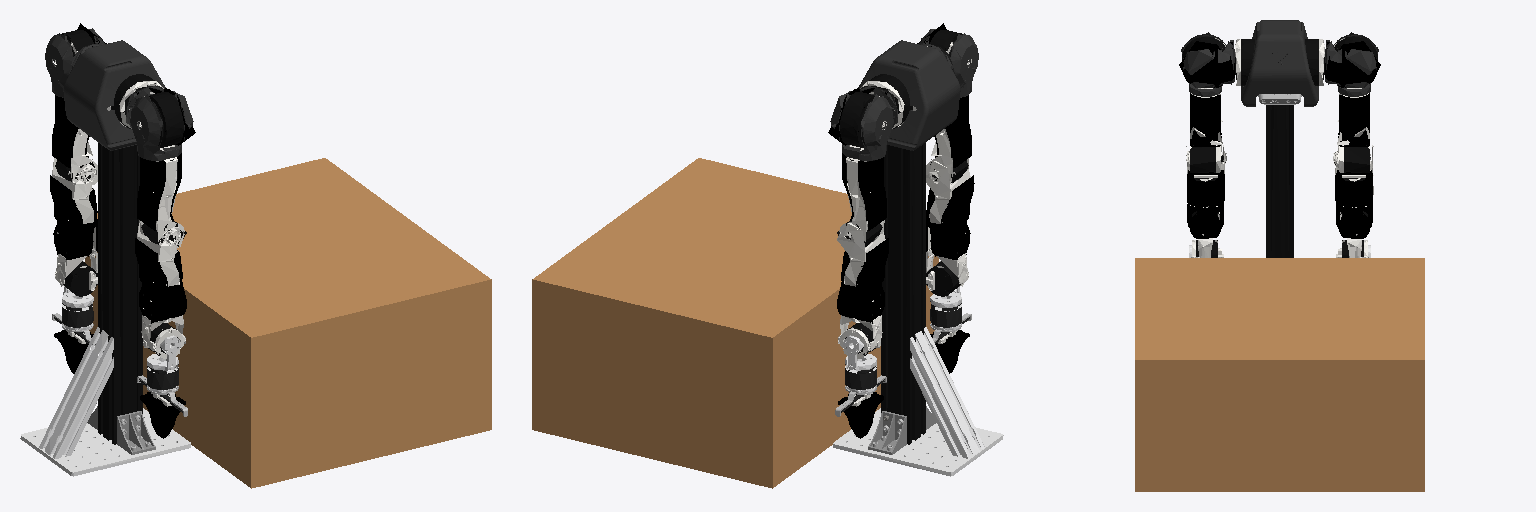
--- Render facts (derived) ---
3 views of the same robot in one strip: view 1: azimuth 30°, elevation 25°; view 2: azimuth 150°, elevation 25°; view 3: azimuth 270°, elevation 25° (orthographic).
Model openarm with 29 links and 28 joints (14 revolute, 4 prismatic, 10 fixed), rooted at base_link, posed every joint at zero.
Visible links, largest first — view 1: table, openarm_body_link0, openarm_right_link3, openarm_left_link3, openarm_right_link4, openarm_right_link1, openarm_left_link4, openarm_right_link5, openarm_left_link5, openarm_right_link2, openarm_right_link7, openarm_left_link2 (+6 smaller); view 2: table, openarm_body_link0, openarm_left_link3, openarm_left_link4, openarm_right_link4, openarm_right_link3, openarm_left_link1, openarm_left_link5, openarm_right_link5, openarm_left_link2, openarm_left_link7, openarm_right_link2 (+6 smaller); view 3: table, openarm_body_link0, openarm_right_link3, openarm_left_link3, openarm_left_link1, openarm_right_link1, openarm_left_link4, openarm_right_link4, openarm_right_link5, openarm_left_link5, openarm_left_link0, openarm_right_link0.
Link boxes in pixels (x1=…): table: x1=85, y1=158, x2=491, y2=488; openarm_body_link0: x1=20, y1=40, x2=190, y2=476; openarm_right_link3: x1=137, y1=153, x2=186, y2=247; openarm_left_link3: x1=52, y1=95, x2=97, y2=184; openarm_right_link4: x1=135, y1=223, x2=182, y2=287; openarm_right_link1: x1=126, y1=85, x2=195, y2=147; openarm_left_link4: x1=50, y1=158, x2=97, y2=225; openarm_right_link5: x1=139, y1=282, x2=186, y2=347; openarm_left_link5: x1=53, y1=219, x2=97, y2=286; openarm_right_link2: x1=130, y1=94, x2=181, y2=160; openarm_right_link7: x1=147, y1=335, x2=180, y2=392; openarm_left_link2: x1=45, y1=33, x2=74, y2=97; table: x1=532, y1=158, x2=938, y2=488; openarm_body_link0: x1=833, y1=40, x2=1003, y2=476; openarm_left_link3: x1=837, y1=153, x2=886, y2=246; openarm_left_link4: x1=837, y1=223, x2=888, y2=286; openarm_right_link4: x1=926, y1=161, x2=974, y2=224; openarm_right_link3: x1=926, y1=95, x2=971, y2=183; openarm_left_link1: x1=828, y1=85, x2=897, y2=147; openarm_left_link5: x1=837, y1=282, x2=884, y2=347; openarm_right_link5: x1=926, y1=219, x2=970, y2=286; openarm_left_link2: x1=842, y1=94, x2=893, y2=160; openarm_left_link7: x1=843, y1=335, x2=876, y2=392; openarm_right_link2: x1=949, y1=33, x2=978, y2=97; table: x1=1135, y1=258, x2=1424, y2=491; openarm_body_link0: x1=1241, y1=20, x2=1318, y2=257; openarm_right_link3: x1=1186, y1=93, x2=1226, y2=172; openarm_left_link3: x1=1333, y1=93, x2=1373, y2=172; openarm_left_link1: x1=1325, y1=37, x2=1380, y2=87; openarm_right_link1: x1=1179, y1=37, x2=1234, y2=87; openarm_left_link4: x1=1335, y1=145, x2=1373, y2=207; openarm_right_link4: x1=1186, y1=145, x2=1224, y2=207; openarm_right_link5: x1=1187, y1=204, x2=1223, y2=257; openarm_left_link5: x1=1336, y1=204, x2=1372, y2=257; openarm_left_link0: x1=1305, y1=39, x2=1324, y2=85; openarm_right_link0: x1=1235, y1=39, x2=1254, y2=85.
Bounding box of the posed robot: 0.7549 × 0.6 × 0.773 m (x, y, z).
24 mesh visuals loaded from 12 distinct referenced files (12 Collada DAE).

URDF robot description (openarm):
<?xml version="1.0" ?>
<!-- =================================================================================== -->
<!-- |    This document was autogenerated by xacro from ./urdf/robot/v10-D435.urdf.xacro | -->
<!-- |    EDITING THIS FILE BY HAND IS NOT RECOMMENDED                                 | -->
<!-- =================================================================================== -->
<robot name="openarm">
  <!-- 包含RealSense D435i的URDF模型（从realsense2_description包中） -->
  <!-- <xacro:include filename="$(find realsense2_description)/urdf/test_d435i_camera.urdf.xacro"/> -->
  <!-- Is the robot being simulated in gazebo? -->
  <!-- <xacro:arg name="gazebo" default="false" /> -->
  <link name="base_link"/>
  <joint name="openarm_body_world_joint" type="fixed">
    <parent link="base_link"/>
    <child link="openarm_body_link0"/>
    <origin rpy="0 0 0" xyz="0 0 0"/>
  </joint>
  <link name="openarm_body_link0">
    <visual name="openarm_body_link0_visual">
      <origin rpy="0.0 0.0 0.0" xyz="0.0 0.0 0.0"/>
      <geometry>
        <mesh filename="package://openarm_description/meshes/body/v10/visual/body_link0.dae" scale="0.001 0.001 0.001"/>
      </geometry>
    </visual>
    <collision name="openarm_body_link0_collision">
      <origin rpy="0.0 0.0 0.0" xyz="0.0 0.0 0.0"/>
      <geometry>
        <mesh filename="package://openarm_description/meshes/body/v10/collision/body_link0_symp.stl" scale="0.001 0.001 0.001"/>
        <!-- <mesh filename="package://openarm_description/meshes/arm/${arm_type}/collision/${name}.stl" scale="0.001 0.001 0.001" /> -->
      </geometry>
    </collision>
    <inertial>
      <origin rpy="0.0 0.0 0.0" xyz="0.0 0.0 0.0"/>
      <mass value="13.89"/>
      <inertia ixx="1.653" ixy="0.0" ixz="0.0" iyy="1.653" iyz="0.0" izz="0.051"/>
    </inertial>
  </link>
  <joint name="openarm_left_openarm_body_link0_joint" type="fixed">
    <parent link="openarm_body_link0"/>
    <child link="openarm_left_link0"/>
    <origin rpy="-1.5708 0 0" xyz="0.0 0.031 0.698"/>
  </joint>
  <link name="openarm_left_link0">
    <visual name="openarm_left_link0_visual">
      <origin rpy="0.0 0.0 0.0" xyz="0.0 0.0 0.0"/>
      <geometry>
        <mesh filename="package://openarm_description/meshes/arm/v10/visual/link0.dae" scale="0.001 -0.001 0.001"/>
      </geometry>
    </visual>
    <collision name="openarm_left_link0_collision">
      <origin rpy="0.0 0.0 0.0" xyz="0.0 0.0 0.0"/>
      <geometry>
        <mesh filename="package://openarm_description/meshes/arm/v10/collision/link0_symp.stl" scale="0.001 -0.001 0.001"/>
        <!-- <mesh filename="package://openarm_description/meshes/arm/${arm_type}/collision/${name}.stl" scale="0.001 0.001 0.001" /> -->
      </geometry>
    </collision>
    <inertial>
      <origin rpy="0.0 0.0 0.0" xyz="-0.0009483362816297526 -0.0001580207020448382 0.03076860287587199"/>
      <mass value="1.1432284943239561"/>
      <inertia ixx="0.001128" ixy="-4e-06" ixz="-3.3e-05" iyy="0.000962" iyz="-7e-06" izz="0.00147"/>
    </inertial>
  </link>
  <link name="openarm_left_link1">
    <visual name="openarm_left_link1_visual">
      <origin rpy="0.0 0.0 0.0" xyz="-0.0 0.0 -0.0625"/>
      <geometry>
        <mesh filename="package://openarm_description/meshes/arm/v10/visual/link1.dae" scale="0.001 -0.001 0.001"/>
      </geometry>
    </visual>
    <collision name="openarm_left_link1_collision">
      <origin rpy="0.0 0.0 0.0" xyz="-0.0 0.0 -0.0625"/>
      <geometry>
        <mesh filename="package://openarm_description/meshes/arm/v10/collision/link1_symp.stl" scale="0.001 -0.001 0.001"/>
        <!-- <mesh filename="package://openarm_description/meshes/arm/${arm_type}/collision/${name}.stl" scale="0.001 0.001 0.001" /> -->
      </geometry>
    </collision>
    <inertial>
      <origin rpy="0.0 0.0 0.0" xyz="0.0011467657911800769 -3.319987657026362e-05 0.05395284380736254"/>
      <mass value="1.1416684646202298"/>
      <inertia ixx="0.001567" ixy="-1e-06" ixz="-2.9e-05" iyy="0.001273" iyz="1e-06" izz="0.001016"/>
    </inertial>
  </link>
  <joint name="openarm_left_joint1" type="revolute">
    <origin rpy="0 0 0" xyz="0.0 0.0 0.0625"/>
    <parent link="openarm_left_link0"/>
    <child link="openarm_left_link1"/>
    <axis xyz="0 0 1"/>
    <limit effort="40" lower="-3.490659" upper="1.3962629999999998" velocity="16.754666"/>
  </joint>
  <link name="openarm_left_link2">
    <visual name="openarm_left_link2_visual">
      <origin rpy="0.0 0.0 0.0" xyz="0.0301 0.0 -0.1225"/>
      <geometry>
        <mesh filename="package://openarm_description/meshes/arm/v10/visual/link2.dae" scale="0.001 -0.001 0.001"/>
      </geometry>
    </visual>
    <collision name="openarm_left_link2_collision">
      <origin rpy="0.0 0.0 0.0" xyz="0.0301 0.0 -0.1225"/>
      <geometry>
        <mesh filename="package://openarm_description/meshes/arm/v10/collision/link2_symp.stl" scale="0.001 -0.001 0.001"/>
        <!-- <mesh filename="package://openarm_description/meshes/arm/${arm_type}/collision/${name}.stl" scale="0.001 0.001 0.001" /> -->
      </geometry>
    </collision>
    <inertial>
      <origin rpy="0.0 0.0 0.0" xyz="0.00839629182351943 2.0145102027597523e-08 0.03256649300522363"/>
      <mass value="0.2775092746011571"/>
      <inertia ixx="0.000359" ixy="1e-06" ixz="-0.000109" iyy="0.000376" iyz="1e-06" izz="0.000232"/>
    </inertial>
  </link>
  <joint name="openarm_left_joint2" type="revolute">
    <origin rpy="-1.57079632679 0 0" xyz="-0.0301 0.0 0.06"/>
    <parent link="openarm_left_link1"/>
    <child link="openarm_left_link2"/>
    <axis xyz="-1 0 0"/>
    <limit effort="40" lower="-3.3161253267948965" upper="0.17453267320510335" velocity="16.754666"/>
  </joint>
  <link name="openarm_left_link3">
    <visual name="openarm_left_link3_visual">
      <origin rpy="0.0 0.0 0.0" xyz="-0.0 -0.0 -0.18875"/>
      <geometry>
        <mesh filename="package://openarm_description/meshes/arm/v10/visual/link3.dae" scale="0.001 -0.001 0.001"/>
      </geometry>
    </visual>
    <collision name="openarm_left_link3_collision">
      <origin rpy="0.0 0.0 0.0" xyz="-0.0 -0.0 -0.18875"/>
      <geometry>
        <mesh filename="package://openarm_description/meshes/arm/v10/collision/link3_symp.stl" scale="0.001 -0.001 0.001"/>
        <!-- <mesh filename="package://openarm_description/meshes/arm/${arm_type}/collision/${name}.stl" scale="0.001 0.001 0.001" /> -->
      </geometry>
    </collision>
    <inertial>
      <origin rpy="0.0 0.0 0.0" xyz="-0.002104752099628911 -0.0005549085042607548 0.09047470545721961"/>
      <mass value="1.073863338202347"/>
      <inertia ixx="0.004372" ixy="1e-06" ixz="1.1e-05" iyy="0.004319" iyz="-3.6e-05" izz="0.000661"/>
    </inertial>
  </link>
  <joint name="openarm_left_joint3" type="revolute">
    <origin rpy="0 0 0" xyz="0.0301 0.0 0.06625"/>
    <parent link="openarm_left_link2"/>
    <child link="openarm_left_link3"/>
    <axis xyz="0 0 1"/>
    <limit effort="27" lower="-1.570796" upper="1.570796" velocity="5.445426"/>
  </joint>
  <link name="openarm_left_link4">
    <visual name="openarm_left_link4_visual">
      <origin rpy="0.0 0.0 0.0" xyz="0.0 -0.0315 -0.3425"/>
      <geometry>
        <mesh filename="package://openarm_description/meshes/arm/v10/visual/link4.dae" scale="0.001 0.001 0.001"/>
      </geometry>
    </visual>
    <collision name="openarm_left_link4_collision">
      <origin rpy="0.0 0.0 0.0" xyz="0.0 -0.0315 -0.3425"/>
      <geometry>
        <mesh filename="package://openarm_description/meshes/arm/v10/collision/link4_symp.stl" scale="0.001 0.001 0.001"/>
        <!-- <mesh filename="package://openarm_description/meshes/arm/${arm_type}/collision/${name}.stl" scale="0.001 0.001 0.001" /> -->
      </geometry>
    </collision>
    <inertial>
      <origin rpy="0.0 0.0 0.0" xyz="-0.0029006831074562967 -0.03030575826634669 0.06339637422196209"/>
      <mass value="0.6348534566833373"/>
      <inertia ixx="0.000623" ixy="-1e-06" ixz="-1.9e-05" iyy="0.000511" iyz="3.8e-05" izz="0.000334"/>
    </inertial>
  </link>
  <joint name="openarm_left_joint4" type="revolute">
    <origin rpy="0 0 0" xyz="-0.0 0.0315 0.15375"/>
    <parent link="openarm_left_link3"/>
    <child link="openarm_left_link4"/>
    <axis xyz="0 1 0"/>
    <limit effort="27" lower="0.0" upper="2.443461" velocity="5.445426"/>
  </joint>
  <link name="openarm_left_link5">
    <visual name="openarm_left_link5_visual">
      <origin rpy="0.0 0.0 0.0" xyz="-0.0 -0.0 -0.438"/>
      <geometry>
        <mesh filename="package://openarm_description/meshes/arm/v10/visual/link5.dae" scale="0.001 -0.001 0.001"/>
      </geometry>
    </visual>
    <collision name="openarm_left_link5_collision">
      <origin rpy="0.0 0.0 0.0" xyz="-0.0 -0.0 -0.438"/>
      <geometry>
        <mesh filename="package://openarm_description/meshes/arm/v10/collision/link5_symp.stl" scale="0.001 -0.001 0.001"/>
        <!-- <mesh filename="package://openarm_description/meshes/arm/${arm_type}/collision/${name}.stl" scale="0.001 0.001 0.001" /> -->
      </geometry>
    </collision>
    <inertial>
      <origin rpy="0.0 0.0 0.0" xyz="-0.003049665024221911 -0.0008866902457326625 0.043079803024980934"/>
      <mass value="0.6156588026168502"/>
      <inertia ixx="0.000423" ixy="-8e-06" ixz="6e-06" iyy="0.000445" iyz="-6e-06" izz="0.000324"/>
    </inertial>
  </link>
  <joint name="openarm_left_joint5" type="revolute">
    <origin rpy="0 0 0" xyz="0.0 -0.0315 0.0955"/>
    <parent link="openarm_left_link4"/>
    <child link="openarm_left_link5"/>
    <axis xyz="0 0 1"/>
    <limit effort="7" lower="-1.570796" upper="1.570796" velocity="20.943946"/>
  </joint>
  <link name="openarm_left_link6">
    <visual name="openarm_left_link6_visual">
      <origin rpy="0.0 0.0 0.0" xyz="-0.0375 -0.0 -0.5585"/>
      <geometry>
        <mesh filename="package://openarm_description/meshes/arm/v10/visual/link6.dae" scale="0.001 -0.001 0.001"/>
      </geometry>
    </visual>
    <collision name="openarm_left_link6_collision">
      <origin rpy="0.0 0.0 0.0" xyz="-0.0375 -0.0 -0.5585"/>
      <geometry>
        <mesh filename="package://openarm_description/meshes/arm/v10/collision/link6_symp.stl" scale="0.001 -0.001 0.001"/>
        <!-- <mesh filename="package://openarm_description/meshes/arm/${arm_type}/collision/${name}.stl" scale="0.001 0.001 0.001" /> -->
      </geometry>
    </collision>
    <inertial>
      <origin rpy="0.0 0.0 0.0" xyz="-0.037136587005447405 -0.00033230528343419053 -9.498374522309838e-05"/>
      <mass value="0.475202773187987"/>
      <inertia ixx="0.000143" ixy="1e-06" ixz="1e-06" iyy="0.000157" iyz="1e-06" izz="0.000159"/>
    </inertial>
  </link>
  <joint name="openarm_left_joint6" type="revolute">
    <origin rpy="0 0 0" xyz="0.0375 0.0 0.1205"/>
    <parent link="openarm_left_link5"/>
    <child link="openarm_left_link6"/>
    <axis xyz="1 0 0"/>
    <limit effort="7" lower="-0.785398" upper="0.785398" velocity="20.943946"/>
  </joint>
  <link name="openarm_left_link7">
    <visual name="openarm_left_link7_visual">
      <origin rpy="0.0 0.0 0.0" xyz="0.0 -0.0 -0.5585"/>
      <geometry>
        <mesh filename="package://openarm_description/meshes/arm/v10/visual/link7.dae" scale="0.001 -0.001 0.001"/>
      </geometry>
    </visual>
    <collision name="openarm_left_link7_collision">
      <origin rpy="0.0 0.0 0.0" xyz="0.0 -0.0 -0.5585"/>
      <geometry>
        <mesh filename="package://openarm_description/meshes/arm/v10/collision/link7_symp.stl" scale="0.001 -0.001 0.001"/>
        <!-- <mesh filename="package://openarm_description/meshes/arm/${arm_type}/collision/${name}.stl" scale="0.001 0.001 0.001" /> -->
      </geometry>
    </collision>
    <inertial>
      <origin rpy="0.0 0.0 0.0" xyz="6.875510271106056e-05 -0.01266175250761268 0.06951945409987448"/>
      <mass value="0.4659771327380578"/>
      <inertia ixx="0.000639" ixy="1e-06" ixz="1e-06" iyy="0.000497" iyz="8.9e-05" izz="0.000342"/>
    </inertial>
  </link>
  <joint name="openarm_left_joint7" type="revolute">
    <origin rpy="0 0 0" xyz="-0.0375 0.0 0.0"/>
    <parent link="openarm_left_link6"/>
    <child link="openarm_left_link7"/>
    <axis xyz="0 -1 0"/>
    <limit effort="7" lower="-1.570796" upper="1.570796" velocity="20.943946"/>
  </joint>
  <!-- <link name="${prefix}link8"/>

    <joint name="${prefix}joint8" type="fixed">
      <xacro:openarm-kinematics name="joint8" config="${kinematics}" />
      <parent link="${prefix}link7" />
      <child link="${prefix}link8" />
    </joint> -->
  <joint name="openarm_right_openarm_body_link0_joint" type="fixed">
    <parent link="openarm_body_link0"/>
    <child link="openarm_right_link0"/>
    <origin rpy="1.5708 0 0" xyz="0.0 -0.031 0.698"/>
  </joint>
  <link name="openarm_right_link0">
    <visual name="openarm_right_link0_visual">
      <origin rpy="0.0 0.0 0.0" xyz="0.0 0.0 0.0"/>
      <geometry>
        <mesh filename="package://openarm_description/meshes/arm/v10/visual/link0.dae" scale="0.001 0.001 0.001"/>
      </geometry>
    </visual>
    <collision name="openarm_right_link0_collision">
      <origin rpy="0.0 0.0 0.0" xyz="0.0 0.0 0.0"/>
      <geometry>
        <mesh filename="package://openarm_description/meshes/arm/v10/collision/link0_symp.stl" scale="0.001 0.001 0.001"/>
        <!-- <mesh filename="package://openarm_description/meshes/arm/${arm_type}/collision/${name}.stl" scale="0.001 0.001 0.001" /> -->
      </geometry>
    </collision>
    <inertial>
      <origin rpy="0.0 0.0 0.0" xyz="-0.0009483362816297526 0.0001580207020448382 0.03076860287587199"/>
      <mass value="1.1432284943239561"/>
      <inertia ixx="0.001128" ixy="-4e-06" ixz="-3.3e-05" iyy="0.000962" iyz="-7e-06" izz="0.00147"/>
    </inertial>
  </link>
  <link name="openarm_right_link1">
    <visual name="openarm_right_link1_visual">
      <origin rpy="0.0 0.0 0.0" xyz="-0.0 0.0 -0.0625"/>
      <geometry>
        <mesh filename="package://openarm_description/meshes/arm/v10/visual/link1.dae" scale="0.001 0.001 0.001"/>
      </geometry>
    </visual>
    <collision name="openarm_right_link1_collision">
      <origin rpy="0.0 0.0 0.0" xyz="-0.0 0.0 -0.0625"/>
      <geometry>
        <mesh filename="package://openarm_description/meshes/arm/v10/collision/link1_symp.stl" scale="0.001 0.001 0.001"/>
        <!-- <mesh filename="package://openarm_description/meshes/arm/${arm_type}/collision/${name}.stl" scale="0.001 0.001 0.001" /> -->
      </geometry>
    </collision>
    <inertial>
      <origin rpy="0.0 0.0 0.0" xyz="0.0011467657911800769 3.319987657026362e-05 0.05395284380736254"/>
      <mass value="1.1416684646202298"/>
      <inertia ixx="0.001567" ixy="-1e-06" ixz="-2.9e-05" iyy="0.001273" iyz="1e-06" izz="0.001016"/>
    </inertial>
  </link>
  <joint name="openarm_right_joint1" type="revolute">
    <origin rpy="0 0 0" xyz="0.0 0.0 0.0625"/>
    <parent link="openarm_right_link0"/>
    <child link="openarm_right_link1"/>
    <axis xyz="0 0 1"/>
    <limit effort="40" lower="-1.396263" upper="3.490659" velocity="16.754666"/>
  </joint>
  <link name="openarm_right_link2">
    <visual name="openarm_right_link2_visual">
      <origin rpy="0.0 0.0 0.0" xyz="0.0301 0.0 -0.1225"/>
      <geometry>
        <mesh filename="package://openarm_description/meshes/arm/v10/visual/link2.dae" scale="0.001 0.001 0.001"/>
      </geometry>
    </visual>
    <collision name="openarm_right_link2_collision">
      <origin rpy="0.0 0.0 0.0" xyz="0.0301 0.0 -0.1225"/>
      <geometry>
        <mesh filename="package://openarm_description/meshes/arm/v10/collision/link2_symp.stl" scale="0.001 0.001 0.001"/>
        <!-- <mesh filename="package://openarm_description/meshes/arm/${arm_type}/collision/${name}.stl" scale="0.001 0.001 0.001" /> -->
      </geometry>
    </collision>
    <inertial>
      <origin rpy="0.0 0.0 0.0" xyz="0.00839629182351943 -2.0145102027597523e-08 0.03256649300522363"/>
      <mass value="0.2775092746011571"/>
      <inertia ixx="0.000359" ixy="1e-06" ixz="-0.000109" iyy="0.000376" iyz="1e-06" izz="0.000232"/>
    </inertial>
  </link>
  <joint name="openarm_right_joint2" type="revolute">
    <origin rpy="1.57079632679 0 0" xyz="-0.0301 0.0 0.06"/>
    <parent link="openarm_right_link1"/>
    <child link="openarm_right_link2"/>
    <axis xyz="-1 0 0"/>
    <limit effort="40" lower="-0.17453267320510335" upper="3.3161253267948965" velocity="16.754666"/>
  </joint>
  <link name="openarm_right_link3">
    <visual name="openarm_right_link3_visual">
      <origin rpy="0.0 0.0 0.0" xyz="-0.0 -0.0 -0.18875"/>
      <geometry>
        <mesh filename="package://openarm_description/meshes/arm/v10/visual/link3.dae" scale="0.001 0.001 0.001"/>
      </geometry>
    </visual>
    <collision name="openarm_right_link3_collision">
      <origin rpy="0.0 0.0 0.0" xyz="-0.0 -0.0 -0.18875"/>
      <geometry>
        <mesh filename="package://openarm_description/meshes/arm/v10/collision/link3_symp.stl" scale="0.001 0.001 0.001"/>
        <!-- <mesh filename="package://openarm_description/meshes/arm/${arm_type}/collision/${name}.stl" scale="0.001 0.001 0.001" /> -->
      </geometry>
    </collision>
    <inertial>
      <origin rpy="0.0 0.0 0.0" xyz="-0.002104752099628911 0.0005549085042607548 0.09047470545721961"/>
      <mass value="1.073863338202347"/>
      <inertia ixx="0.004372" ixy="1e-06" ixz="1.1e-05" iyy="0.004319" iyz="-3.6e-05" izz="0.000661"/>
    </inertial>
  </link>
  <joint name="openarm_right_joint3" type="revolute">
    <origin rpy="0 0 0" xyz="0.0301 0.0 0.06625"/>
    <parent link="openarm_right_link2"/>
    <child link="openarm_right_link3"/>
    <axis xyz="0 0 1"/>
    <limit effort="27" lower="-1.570796" upper="1.570796" velocity="5.445426"/>
  </joint>
  <link name="openarm_right_link4">
    <visual name="openarm_right_link4_visual">
      <origin rpy="0.0 0.0 0.0" xyz="0.0 -0.0315 -0.3425"/>
      <geometry>
        <mesh filename="package://openarm_description/meshes/arm/v10/visual/link4.dae" scale="0.001 0.001 0.001"/>
      </geometry>
    </visual>
    <collision name="openarm_right_link4_collision">
      <origin rpy="0.0 0.0 0.0" xyz="0.0 -0.0315 -0.3425"/>
      <geometry>
        <mesh filename="package://openarm_description/meshes/arm/v10/collision/link4_symp.stl" scale="0.001 0.001 0.001"/>
        <!-- <mesh filename="package://openarm_description/meshes/arm/${arm_type}/collision/${name}.stl" scale="0.001 0.001 0.001" /> -->
      </geometry>
    </collision>
    <inertial>
      <origin rpy="0.0 0.0 0.0" xyz="-0.0029006831074562967 -0.03030575826634669 0.06339637422196209"/>
      <mass value="0.6348534566833373"/>
      <inertia ixx="0.000623" ixy="-1e-06" ixz="-1.9e-05" iyy="0.000511" iyz="3.8e-05" izz="0.000334"/>
    </inertial>
  </link>
  <joint name="openarm_right_joint4" type="revolute">
    <origin rpy="0 0 0" xyz="-0.0 0.0315 0.15375"/>
    <parent link="openarm_right_link3"/>
    <child link="openarm_right_link4"/>
    <axis xyz="0 1 0"/>
    <limit effort="27" lower="0.0" upper="2.443461" velocity="5.445426"/>
  </joint>
  <link name="openarm_right_link5">
    <visual name="openarm_right_link5_visual">
      <origin rpy="0.0 0.0 0.0" xyz="-0.0 -0.0 -0.438"/>
      <geometry>
        <mesh filename="package://openarm_description/meshes/arm/v10/visual/link5.dae" scale="0.001 0.001 0.001"/>
      </geometry>
    </visual>
    <collision name="openarm_right_link5_collision">
      <origin rpy="0.0 0.0 0.0" xyz="-0.0 -0.0 -0.438"/>
      <geometry>
        <mesh filename="package://openarm_description/meshes/arm/v10/collision/link5_symp.stl" scale="0.001 0.001 0.001"/>
        <!-- <mesh filename="package://openarm_description/meshes/arm/${arm_type}/collision/${name}.stl" scale="0.001 0.001 0.001" /> -->
      </geometry>
    </collision>
    <inertial>
      <origin rpy="0.0 0.0 0.0" xyz="-0.003049665024221911 0.0008866902457326625 0.043079803024980934"/>
      <mass value="0.6156588026168502"/>
      <inertia ixx="0.000423" ixy="-8e-06" ixz="6e-06" iyy="0.000445" iyz="-6e-06" izz="0.000324"/>
    </inertial>
  </link>
  <joint name="openarm_right_joint5" type="revolute">
    <origin rpy="0 0 0" xyz="0.0 -0.0315 0.0955"/>
    <parent link="openarm_right_link4"/>
    <child link="openarm_right_link5"/>
    <axis xyz="0 0 1"/>
    <limit effort="7" lower="-1.570796" upper="1.570796" velocity="20.943946"/>
  </joint>
  <link name="openarm_right_link6">
    <visual name="openarm_right_link6_visual">
      <origin rpy="0.0 0.0 0.0" xyz="-0.0375 -0.0 -0.5585"/>
      <geometry>
        <mesh filename="package://openarm_description/meshes/arm/v10/visual/link6.dae" scale="0.001 0.001 0.001"/>
      </geometry>
    </visual>
    <collision name="openarm_right_link6_collision">
      <origin rpy="0.0 0.0 0.0" xyz="-0.0375 -0.0 -0.5585"/>
      <geometry>
        <mesh filename="package://openarm_description/meshes/arm/v10/collision/link6_symp.stl" scale="0.001 0.001 0.001"/>
        <!-- <mesh filename="package://openarm_description/meshes/arm/${arm_type}/collision/${name}.stl" scale="0.001 0.001 0.001" /> -->
      </geometry>
    </collision>
    <inertial>
      <origin rpy="0.0 0.0 0.0" xyz="-0.037136587005447405 0.00033230528343419053 -9.498374522309838e-05"/>
      <mass value="0.475202773187987"/>
      <inertia ixx="0.000143" ixy="1e-06" ixz="1e-06" iyy="0.000157" iyz="1e-06" izz="0.000159"/>
    </inertial>
  </link>
  <joint name="openarm_right_joint6" type="revolute">
    <origin rpy="0 0 0" xyz="0.0375 0.0 0.1205"/>
    <parent link="openarm_right_link5"/>
    <child link="openarm_right_link6"/>
    <axis xyz="1 0 0"/>
    <limit effort="7" lower="-0.785398" upper="0.785398" velocity="20.943946"/>
  </joint>
  <link name="openarm_right_link7">
    <visual name="openarm_right_link7_visual">
      <origin rpy="0.0 0.0 0.0" xyz="0.0 -0.0 -0.5585"/>
      <geometry>
        <mesh filename="package://openarm_description/meshes/arm/v10/visual/link7.dae" scale="0.001 0.001 0.001"/>
      </geometry>
    </visual>
    <collision name="openarm_right_link7_collision">
      <origin rpy="0.0 0.0 0.0" xyz="0.0 -0.0 -0.5585"/>
      <geometry>
        <mesh filename="package://openarm_description/meshes/arm/v10/collision/link7_symp.stl" scale="0.001 0.001 0.001"/>
        <!-- <mesh filename="package://openarm_description/meshes/arm/${arm_type}/collision/${name}.stl" scale="0.001 0.001 0.001" /> -->
      </geometry>
    </collision>
    <inertial>
      <origin rpy="0.0 0.0 0.0" xyz="6.875510271106056e-05 0.01266175250761268 0.06951945409987448"/>
      <mass value="0.4659771327380578"/>
      <inertia ixx="0.000639" ixy="1e-06" ixz="1e-06" iyy="0.000497" iyz="8.9e-05" izz="0.000342"/>
    </inertial>
  </link>
  <joint name="openarm_right_joint7" type="revolute">
    <origin rpy="0 0 0" xyz="-0.0375 0.0 0.0"/>
    <parent link="openarm_right_link6"/>
    <child link="openarm_right_link7"/>
    <axis xyz="0 1 0"/>
    <limit effort="7" lower="-1.570796" upper="1.570796" velocity="20.943946"/>
  </joint>
  <!-- <link name="${prefix}link8"/>

    <joint name="${prefix}joint8" type="fixed">
      <xacro:openarm-kinematics name="joint8" config="${kinematics}" />
      <parent link="${prefix}link7" />
      <child link="${prefix}link8" />
    </joint> -->
  <link name="openarm_left_hand">
    <visual name="openarm_left_hand_visual">
      <origin rpy="0.0 0.0 0.0" xyz="0.0 0.0 -0.6585"/>
      <geometry>
        <mesh filename="package://openarm_description/meshes/ee/openarm_hand/visual/hand.dae" scale="0.001 0.001 0.001"/>
      </geometry>
    </visual>
    <collision name="openarm_left_hand_collision">
      <origin rpy="0.0 0.0 0.0" xyz="0.0 0.0 -0.6585"/>
      <geometry>
        <mesh filename="package://openarm_description/meshes/ee/openarm_hand/collision/hand.stl" scale="0.001 0.001 0.001"/>
      </geometry>
    </collision>
    <inertial>
      <origin rpy="0 0 0" xyz="0.0 0.002 0.03"/>
      <mass value="0.35"/>
      <inertia ixx="0.0002473" ixy="1e-06" ixz="1e-06" iyy="1.763e-05" iyz="1e-06" izz="0.0002521"/>
    </inertial>
  </link>
  <!-- <link name="${ee_prefix}hand"/> -->
  <!-- <joint name="${ee_prefix}hand_joint" type="fixed"> -->
  <joint name="left_openarm_hand_joint" type="fixed">
    <parent link="openarm_left_link7"/>
    <child link="openarm_left_hand"/>
    <origin rpy="0 0 0" xyz="0 -0.0 0.1001"/>
  </joint>
  <!-- Define the hand_tcp frame -->
  <link name="openarm_left_hand_tcp"/>
  <joint name="openarm_left_hand_tcp_joint" type="fixed">
    <origin rpy="0 0 0" xyz="0 -0.0 0.08"/>
    <parent link="openarm_left_hand"/>
    <child link="openarm_left_hand_tcp"/>
  </joint>
  <link name="openarm_left_left_finger">
    <visual name="openarm_left_left_finger_visual">
      <origin rpy="0.0 0.0 0.0" xyz="0.0 -0.05 -0.673001"/>
      <geometry>
        <mesh filename="package://openarm_description/meshes/ee/openarm_hand/visual/finger.dae" scale="0.001 0.001 0.001"/>
      </geometry>
    </visual>
    <collision name="openarm_left_left_finger_collision">
      <origin rpy="0.0 0.0 0.0" xyz="0.0 -0.05 -0.673001"/>
      <geometry>
        <mesh filename="package://openarm_description/meshes/ee/openarm_hand/collision/finger.stl" scale="0.001 0.001 0.001"/>
      </geometry>
    </collision>
    <inertial>
      <origin rpy="0 0 0" xyz="0.0064528 0.01702 0.0219685"/>
      <mass value="0.03602545343277134"/>
      <inertia ixx="2.3749999999999998e-05" ixy="0.0" ixz="0.0" iyy="2.3749999999999998e-05" iyz="0.0" izz="7.5e-06"/>
    </inertial>
  </link>
  <link name="openarm_left_right_finger">
    <visual name="openarm_left_right_finger_visual">
      <origin rpy="0.0 0.0 0.0" xyz="0.0 0.05 -0.673001"/>
      <geometry>
        <mesh filename="package://openarm_description/meshes/ee/openarm_hand/visual/finger.dae" scale="0.001 -0.001 0.001"/>
      </geometry>
    </visual>
    <collision name="openarm_left_right_finger_collision">
      <origin rpy="0.0 0.0 0.0" xyz="0.0 0.05 -0.673001"/>
      <geometry>
        <mesh filename="package://openarm_description/meshes/ee/openarm_hand/collision/finger.stl" scale="0.001 -0.001 0.001"/>
      </geometry>
    </collision>
    <inertial>
      <origin rpy="0 0 0" xyz="0.0064528 -0.01702 0.0219685"/>
      <mass value="0.03602545343277134"/>
      <inertia ixx="2.3749999999999998e-05" ixy="0.0" ixz="0.0" iyy="2.3749999999999998e-05" iyz="0.0" izz="7.5e-06"/>
    </inertial>
  </link>
  <joint name="openarm_left_finger_joint1" type="prismatic">
    <parent link="openarm_left_hand"/>
    <child link="openarm_left_right_finger"/>
    <origin rpy="0 0 0" xyz="0 -0.006 0.015"/>
    <axis xyz="0 -1 0"/>
    <limit effort="333" lower="0.0" upper="0.044" velocity="10.0"/>
  </joint>
  <joint name="openarm_left_finger_joint2" type="prismatic">
    <parent link="openarm_left_hand"/>
    <child link="openarm_left_left_finger"/>
    <origin rpy="0 0 0" xyz="0 0.006 0.015"/>
    <axis xyz="0 1 0"/>
    <limit effort="333" lower="0.0" upper="0.044" velocity="10.0"/>
    <mimic joint="openarm_left_finger_joint1"/>
  </joint>
  <link name="openarm_right_hand">
    <visual name="openarm_right_hand_visual">
      <origin rpy="0.0 0.0 0.0" xyz="0.0 0.0 -0.6585"/>
      <geometry>
        <mesh filename="package://openarm_description/meshes/ee/openarm_hand/visual/hand.dae" scale="0.001 0.001 0.001"/>
      </geometry>
    </visual>
    <collision name="openarm_right_hand_collision">
      <origin rpy="0.0 0.0 0.0" xyz="0.0 0.0 -0.6585"/>
      <geometry>
        <mesh filename="package://openarm_description/meshes/ee/openarm_hand/collision/hand.stl" scale="0.001 0.001 0.001"/>
      </geometry>
    </collision>
    <inertial>
      <origin rpy="0 0 0" xyz="0.0 0.002 0.03"/>
      <mass value="0.35"/>
      <inertia ixx="0.0002473" ixy="1e-06" ixz="1e-06" iyy="1.763e-05" iyz="1e-06" izz="0.0002521"/>
    </inertial>
  </link>
  <!-- <link name="${ee_prefix}hand"/> -->
  <!-- <joint name="${ee_prefix}hand_joint" type="fixed"> -->
  <joint name="right_openarm_hand_joint" type="fixed">
    <parent link="openarm_right_link7"/>
    <child link="openarm_right_hand"/>
    <origin rpy="0 0 0" xyz="0 -0.0 0.1001"/>
  </joint>
  <!-- Define the hand_tcp frame -->
  <link name="openarm_right_hand_tcp"/>
  <joint name="openarm_right_hand_tcp_joint" type="fixed">
    <origin rpy="0 0 0" xyz="0 -0.0 0.08"/>
    <parent link="openarm_right_hand"/>
    <child link="openarm_right_hand_tcp"/>
  </joint>
  <link name="openarm_right_left_finger">
    <visual name="openarm_right_left_finger_visual">
      <origin rpy="0.0 0.0 0.0" xyz="0.0 -0.05 -0.673001"/>
      <geometry>
        <mesh filename="package://openarm_description/meshes/ee/openarm_hand/visual/finger.dae" scale="0.001 0.001 0.001"/>
      </geometry>
    </visual>
    <collision name="openarm_right_left_finger_collision">
      <origin rpy="0.0 0.0 0.0" xyz="0.0 -0.05 -0.673001"/>
      <geometry>
        <mesh filename="package://openarm_description/meshes/ee/openarm_hand/collision/finger.stl" scale="0.001 0.001 0.001"/>
      </geometry>
    </collision>
    <inertial>
      <origin rpy="0 0 0" xyz="0.0064528 0.01702 0.0219685"/>
      <mass value="0.03602545343277134"/>
      <inertia ixx="2.3749999999999998e-05" ixy="0.0" ixz="0.0" iyy="2.3749999999999998e-05" iyz="0.0" izz="7.5e-06"/>
    </inertial>
  </link>
  <link name="openarm_right_right_finger">
    <visual name="openarm_right_right_finger_visual">
      <origin rpy="0.0 0.0 0.0" xyz="0.0 0.05 -0.673001"/>
      <geometry>
        <mesh filename="package://openarm_description/meshes/ee/openarm_hand/visual/finger.dae" scale="0.001 -0.001 0.001"/>
      </geometry>
    </visual>
    <collision name="openarm_right_right_finger_collision">
      <origin rpy="0.0 0.0 0.0" xyz="0.0 0.05 -0.673001"/>
      <geometry>
        <mesh filename="package://openarm_description/meshes/ee/openarm_hand/collision/finger.stl" scale="0.001 -0.001 0.001"/>
      </geometry>
    </collision>
    <inertial>
      <origin rpy="0 0 0" xyz="0.0064528 -0.01702 0.0219685"/>
      <mass value="0.03602545343277134"/>
      <inertia ixx="2.3749999999999998e-05" ixy="0.0" ixz="0.0" iyy="2.3749999999999998e-05" iyz="0.0" izz="7.5e-06"/>
    </inertial>
  </link>
  <joint name="openarm_right_finger_joint1" type="prismatic">
    <parent link="openarm_right_hand"/>
    <child link="openarm_right_right_finger"/>
    <origin rpy="0 0 0" xyz="0 -0.006 0.015"/>
    <axis xyz="0 -1 0"/>
    <limit effort="333" lower="0.0" upper="0.044" velocity="10.0"/>
  </joint>
  <joint name="openarm_right_finger_joint2" type="prismatic">
    <parent link="openarm_right_hand"/>
    <child link="openarm_right_left_finger"/>
    <origin rpy="0 0 0" xyz="0 0.006 0.015"/>
    <axis xyz="0 1 0"/>
    <limit effort="333" lower="0.0" upper="0.044" velocity="10.0"/>
    <mimic joint="openarm_right_finger_joint1"/>
  </joint>
  <material name="aluminum">
    <color rgba="0.5 0.5 0.5 1"/>
  </material>
  <material name="plastic">
    <color rgba="0.1 0.1 0.1 1"/>
  </material>
  <!-- <link name="base_link"/> -->
  <!-- camera body, with origin at bottom screw mount -->
  <joint name="camera_joint" type="fixed">
    <origin rpy="0 0.5235988 0" xyz="0.035 0 0.63"/>
    <parent link="openarm_body_link0"/>
    <child link="camera_bottom_screw_frame"/>
  </joint>
  <link name="camera_bottom_screw_frame"/>
  <joint name="camera_link_joint" type="fixed">
    <origin rpy="0 0 0" xyz="0.010600000000000002 0.0175 0.0125"/>
    <parent link="camera_bottom_screw_frame"/>
    <child link="camera_link"/>
  </joint>
  <link name="camera_link">
    <visual>
      <!-- the mesh origin is at front plate in between the two infrared camera axes -->
      <origin rpy="1.5707963267948966 0 1.5707963267948966" xyz="0.0043 -0.0175 0"/>
      <geometry>
        <!-- <mesh filename="file://[local-path]/openarm_ws/install/openarm_description/share/openarm_description/meshes/cam/d435.dae"/> -->
        <mesh filename="package://openarm_description/meshes/cam/d435.dae"/>
        <!-- <mesh filename="file://$(find realsense2_description)/meshes/d435.dae"/> -->
      </geometry>
    </visual>
    <collision>
      <origin rpy="0 0 0" xyz="0 -0.0175 0"/>
      <geometry>
        <box size="0.02505 0.09 0.025"/>
      </geometry>
    </collision>
    <inertial>
      <!-- The following are not reliable values, and should not be used for modeling -->
      <mass value="0.072"/>
      <origin xyz="0 0 0"/>
      <inertia ixx="0.003881243" ixy="0.0" ixz="0.0" iyy="0.000498940" iyz="0.0" izz="0.003879257"/>
    </inertial>
  </link>
  <link name="table">
        <visual>
            <origin xyz="0 0 0.15"/>   <!-- 几何中心放在 10 cm 处，总高 20 cm -->
            <geometry>
                <box size="0.5 0.6 0.3"/>   <!-- 长 50 cm、宽 60 cm、高 30 cm -->
            </geometry>
            <material name="table_color">
                <color rgba="0.8 0.6 0.4 1"/>
            </material>
        </visual>
        <collision>
            <origin xyz="0 0 0.15"/>
            <geometry>
                <box size="0.5 0.6 0.3"/>
            </geometry>
        </collision>
        <inertial>
            <origin xyz="0 0 0.15"/>
            <mass value="5"/>
            <inertia ixx="0.05" ixy="0" ixz="0"
                    iyy="0.05" iyz="0"
                    izz="0.05"/>
        </inertial>
    </link>

    <!-- 把桌子固接到 world，桌面离地 0.2 m -->
    <joint name="table_to_world" type="fixed">
        <parent link="base_link"/>
        <child  link="table"/>
        <origin xyz="0.35 0 0.0" rpy="0 0 0"/>
    </joint>
</robot>
